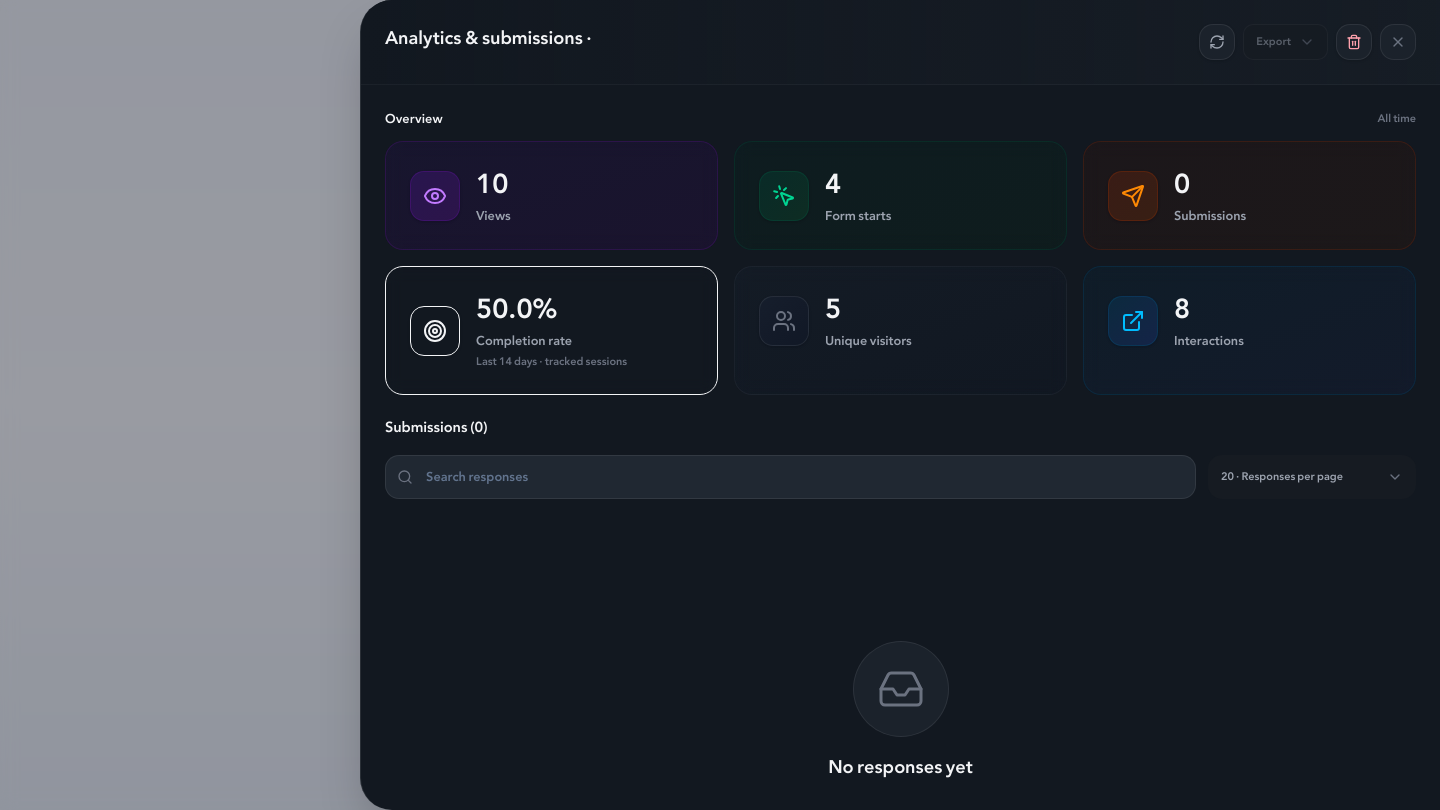
Test case: combined form insights › business can clear tracking when there are no submissions
Click the button named "Delete all form data" at (1354, 42), box [1336,24,1372,60]
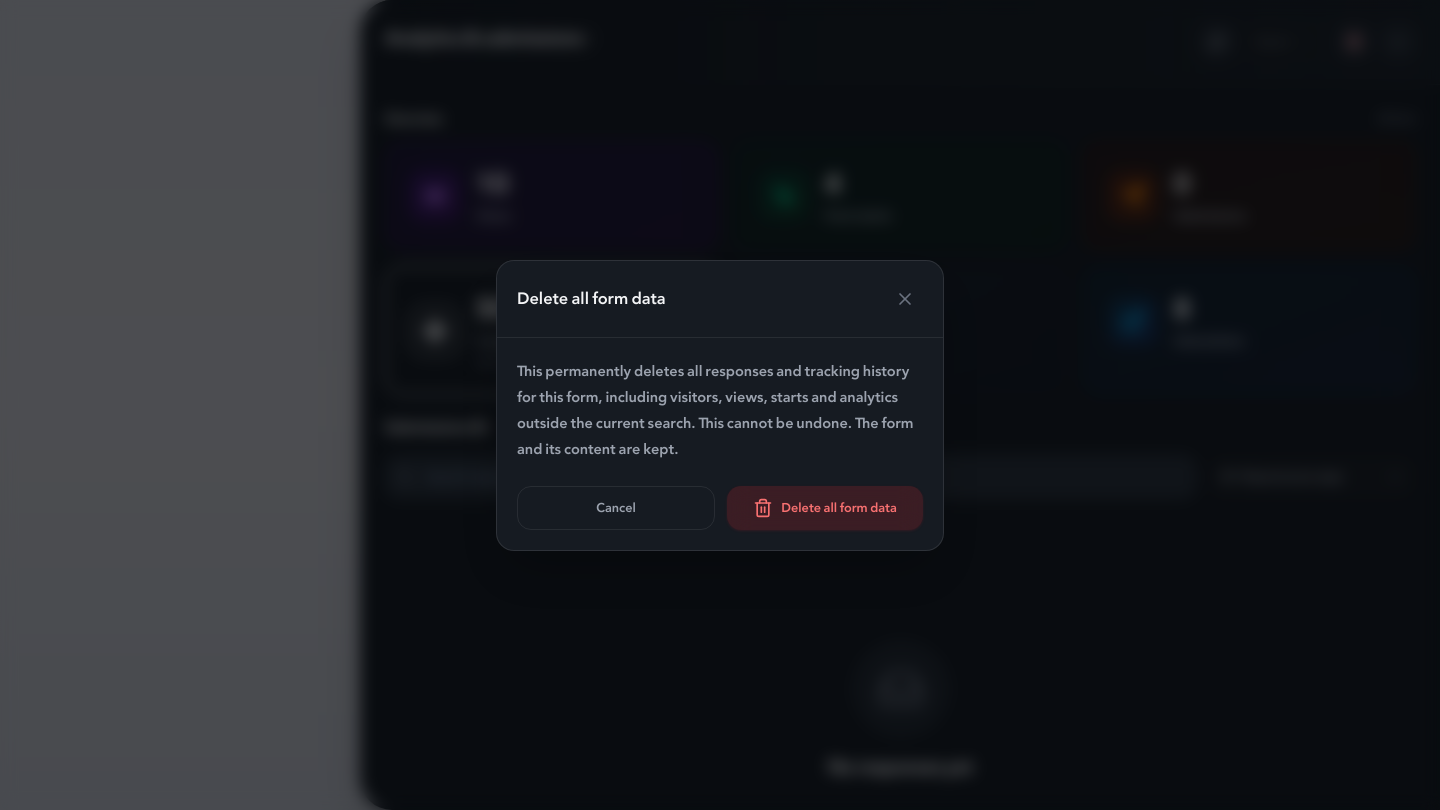
Now the dialog "Delete all form data" shows "tracking history", box [517,358,914,462]
